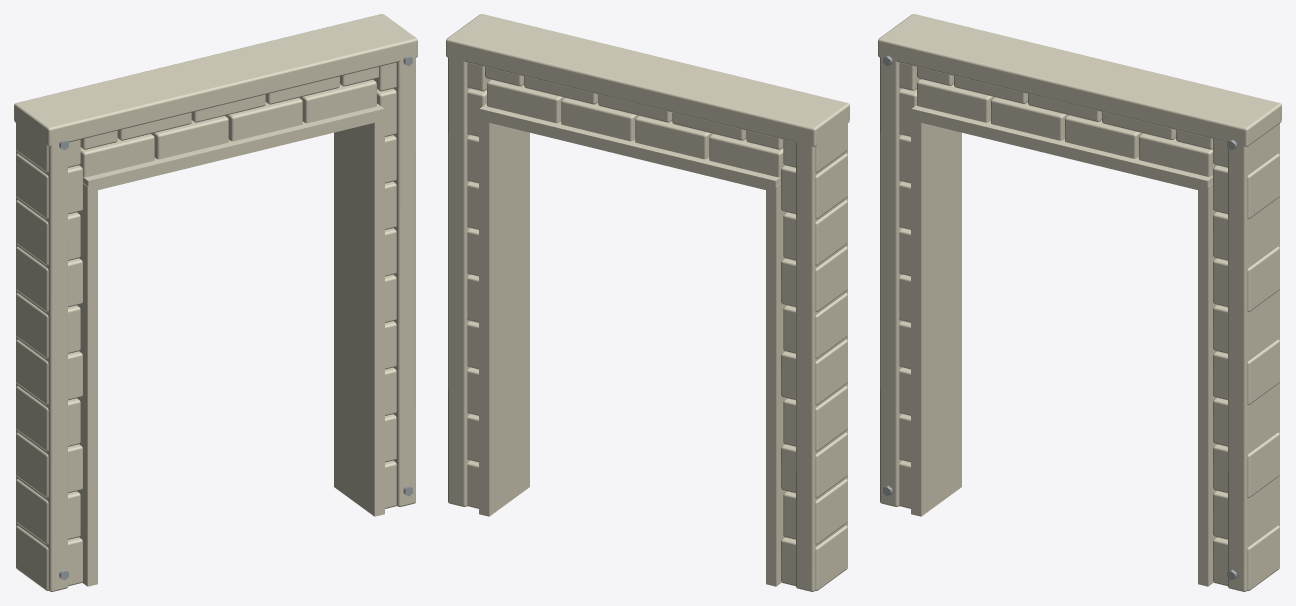
File: bunker-shelter-construction-shelter-wide-access-1321671e__23289.glb
3 views of the same model, side by side, from view 1: azimuth 30°, elevation 25°; view 2: azimuth 150°, elevation 25°; view 3: azimuth 330°, elevation 25° (orthographic).
Parts seen in each view (by area): view 1: shelter-wide-access; view 2: shelter-wide-access; view 3: shelter-wide-access.
Boxes of the visible parts, x1,y1,x2,y2 form: shelter-wide-access: (14,14,417,591); shelter-wide-access: (446,14,849,591); shelter-wide-access: (878,14,1281,591).
Size of the model in its own units: 2 by 2.4 by 0.388.
